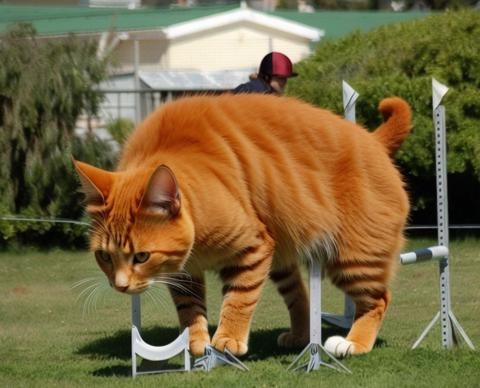cat: (72, 89, 413, 354)
person: (196, 49, 316, 220)
